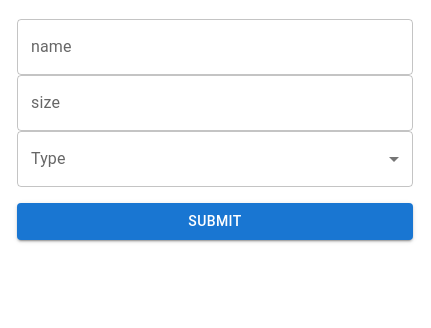
it: when the user submits the form without values › should display validations messages
This screenshot has width=431, height=328.
Expected: the text "The name is required" is not shown
Expected: the text "The size is required" is not shown
Note: gatillar btn submit
Click the button "Submit": x=215, y=221 [17,203,413,240]
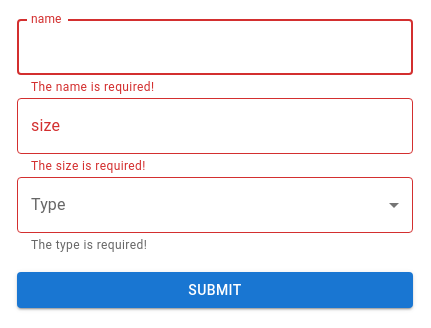
Expected: the text "The name is required!" is shown, [31,80,154,94]
Expected: the text "The size is required!" is shown, [31,159,146,173]
Expected: the text "The type is required!" is shown, [31,238,147,252]
